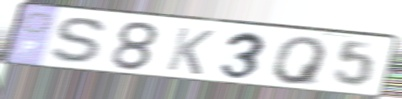3: (216, 29, 273, 82)
5: (332, 39, 378, 93)
8: (108, 20, 161, 72)
K: (163, 25, 217, 77)
Q: (270, 36, 331, 88)
S: (46, 16, 112, 67)
